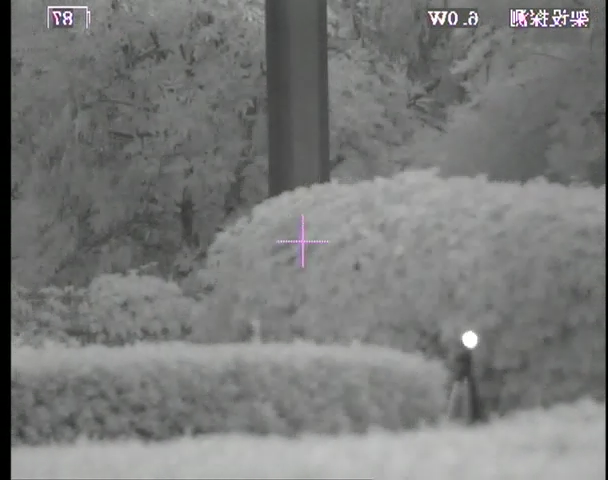my: (460, 329, 478, 350)
